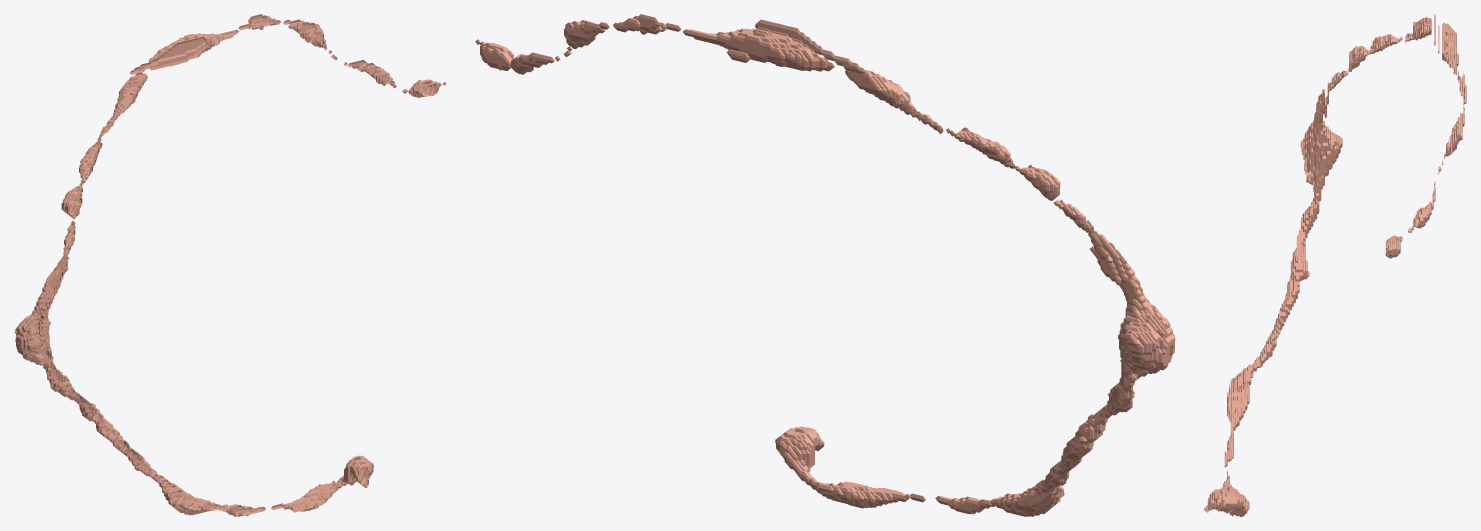
File: SVV_AINR.gltf
3 renders of one model, left to right at view 1: azimuth 30°, elevation 25°; view 2: azimuth 150°, elevation 25°; view 3: azimuth 270°, elevation 25°, orthographic. The views are drawn at different scales.
Visible parts, largest first — view 1: AINR; view 2: AINR; view 3: AINR.
Boxes of the visible parts, x1,y1,x2,y2 form: AINR: (14,14,446,516); AINR: (475,14,1175,516); AINR: (1204,14,1466,516).
Bounding box in the file's own units: 118334 × 101454 × 51970.
